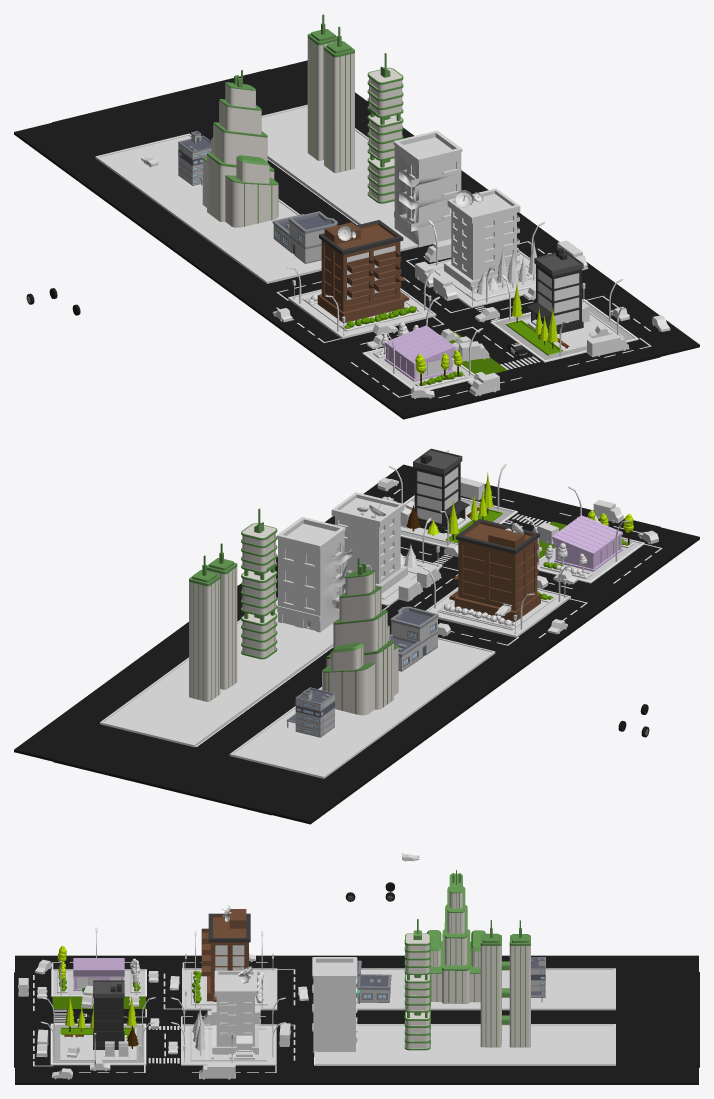
The model's file is city.glb.
The picture shows the model from 3 angles, top to bottom: view 1: azimuth 30°, elevation 25°; view 2: azimuth 150°, elevation 25°; view 3: azimuth 270°, elevation 25°; orthographic projection. The views are drawn at different scales.
Visible parts, largest first — view 1: ROAD, Floor.001, Project, House, large_buildingC, b_skyscaper02, House_1, Experince, Medias, Bio, Fun_Project, Floor (+8 smaller); view 2: ROAD, Floor.001, Project, House, large_buildingC, b_skyscaper02, Experince, House_1, Medias, Bio, Fun_Project, large_buildingG (+4 smaller); view 3: ROAD, Floor.001, b_skyscaper02, Project, large_buildingC, House_1, Experince, House, Medias, Floor_2, Bio, Floor_1 (+10 smaller).
Part boxes in pixels (x1,y1,x2,y2): ROAD: [14, 60, 699, 419]; Floor.001: [95, 104, 418, 283]; Project: [202, 70, 278, 227]; House: [317, 220, 409, 322]; large_buildingC: [393, 130, 462, 247]; b_skyscaper02: [307, 14, 354, 173]; House_1: [444, 188, 521, 290]; Experince: [367, 53, 403, 203]; Medias: [527, 247, 583, 334]; Bio: [384, 325, 455, 381]; Fun_Project: [272, 211, 337, 263]; Floor: [288, 288, 436, 338]; ROAD: [14, 464, 699, 824]; Floor.001: [100, 598, 495, 778]; Project: [322, 557, 398, 715]; House: [449, 519, 540, 621]; large_buildingC: [277, 517, 352, 632]; b_skyscaper02: [189, 543, 237, 701]; Experince: [241, 508, 277, 659]; House_1: [331, 492, 407, 593]; Medias: [413, 448, 469, 534]; Bio: [552, 515, 622, 571]; Fun_Project: [390, 606, 438, 671]; large_buildingG: [286, 687, 335, 737]; ROAD: [14, 955, 699, 1084]; Floor.001: [314, 968, 615, 1065]; b_skyscaper02: [480, 920, 530, 1047]; Project: [427, 870, 485, 1003]; large_buildingC: [312, 957, 357, 1056]; House_1: [212, 970, 258, 1059]; Experince: [404, 919, 430, 1050]; House: [201, 909, 252, 1001]; Medias: [93, 980, 124, 1049]; Floor_2: [50, 1023, 146, 1065]; Bio: [73, 958, 124, 990]; Floor_1: [181, 1024, 276, 1065].
Bounding box in the file's own units: 87.87 × 27.35 × 130.
